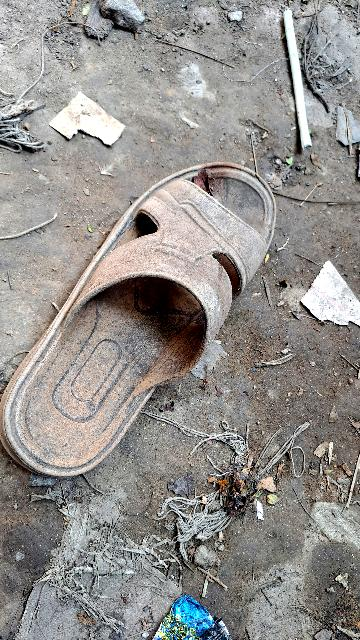sandal: (0, 120, 308, 485)
